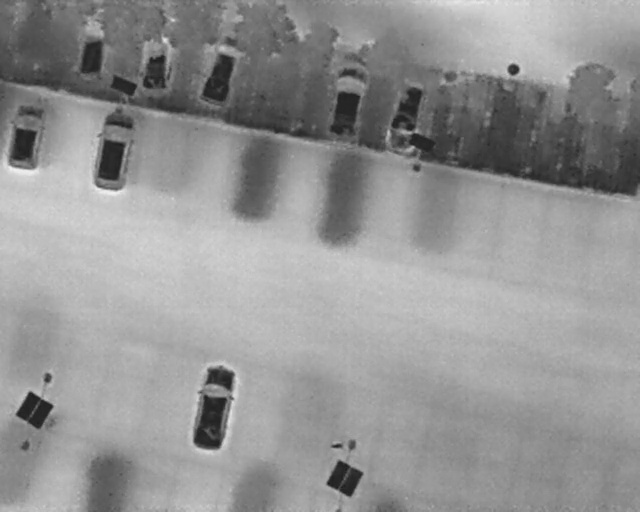Car: (189, 22, 257, 117), (318, 50, 379, 146), (185, 359, 242, 454), (379, 74, 435, 164), (85, 108, 141, 196), (133, 19, 179, 101), (2, 100, 49, 173), (73, 14, 113, 86)
